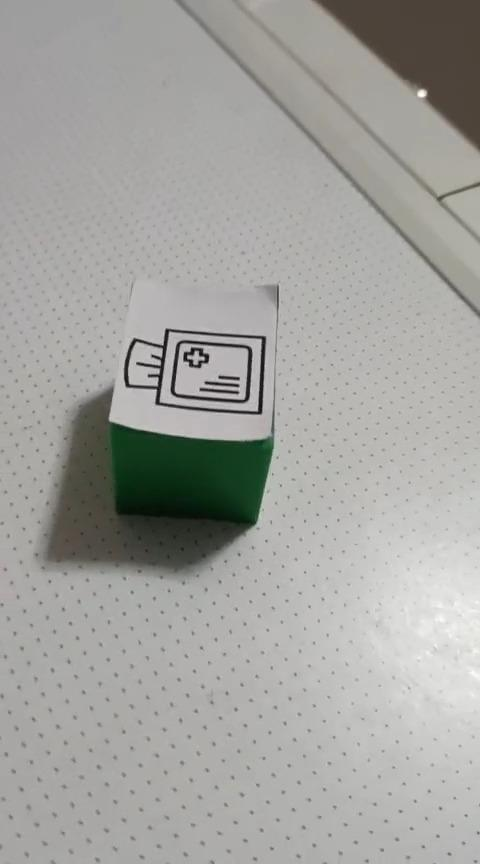Gauze: (107, 277, 280, 525)
